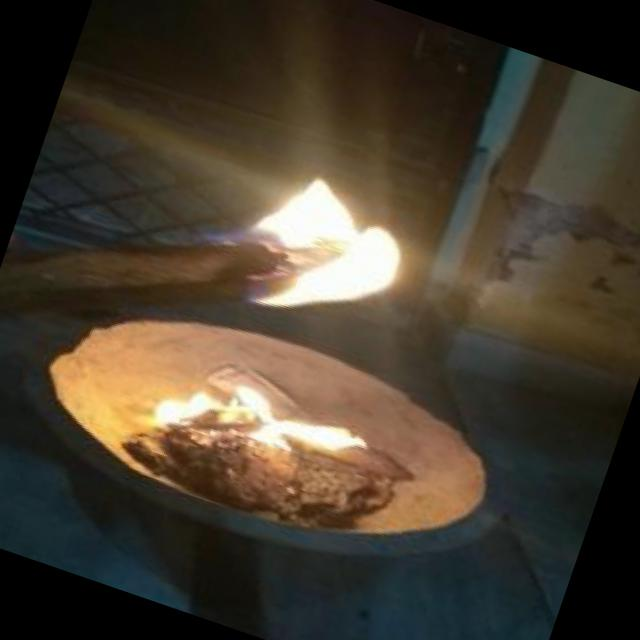fire: (188, 124, 429, 349), (142, 356, 366, 490)
